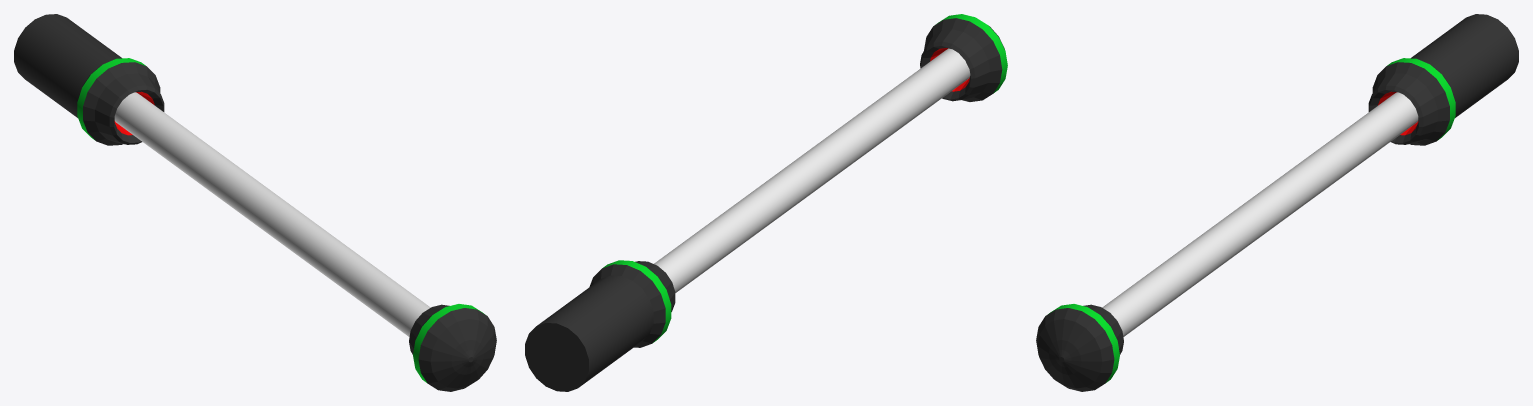
File: armadilha laser.FBX
The picture shows the model from 3 angles, left to right: view 1: azimuth 30°, elevation 25°; view 2: azimuth 150°, elevation 25°; view 3: azimuth 330°, elevation 25°; orthographic projection.
Parts seen in each view (by area): view 1: Cylinder004, Cylinder001, Cylinder009; view 2: Cylinder004, Cylinder001, Cylinder009; view 3: Cylinder004, Cylinder001, Cylinder009.
Part boxes in pixels (left/top/right/bottom): Cylinder004: left=114, top=92, right=430, bottom=336; Cylinder001: left=14, top=14, right=164, bottom=145; Cylinder009: left=409, top=304, right=496, bottom=391; Cylinder004: left=654, top=48, right=970, bottom=292; Cylinder001: left=525, top=260, right=675, bottom=391; Cylinder009: left=920, top=14, right=1007, bottom=101; Cylinder004: left=1102, top=92, right=1418, bottom=336; Cylinder001: left=1368, top=14, right=1518, bottom=145; Cylinder009: left=1036, top=304, right=1123, bottom=391.
Bounding box in the file's own units: 23.7 × 23.7 × 223.
